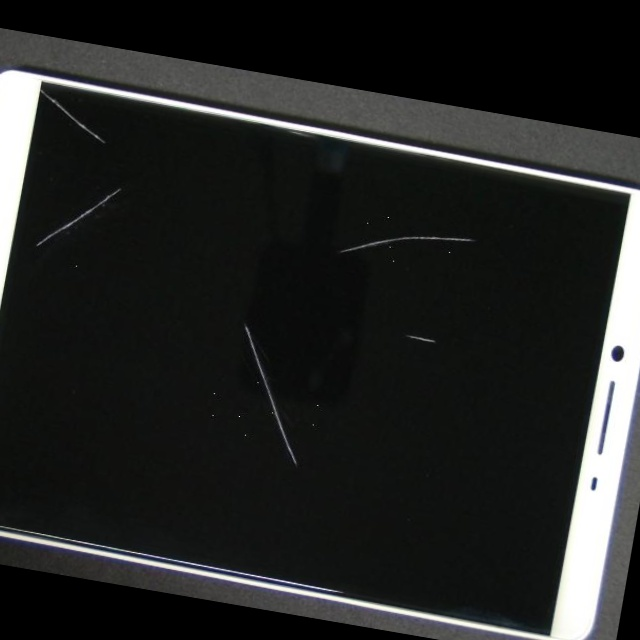scratch: (0, 82, 445, 546), (127, 132, 523, 347), (0, 123, 91, 366), (0, 51, 122, 185)
